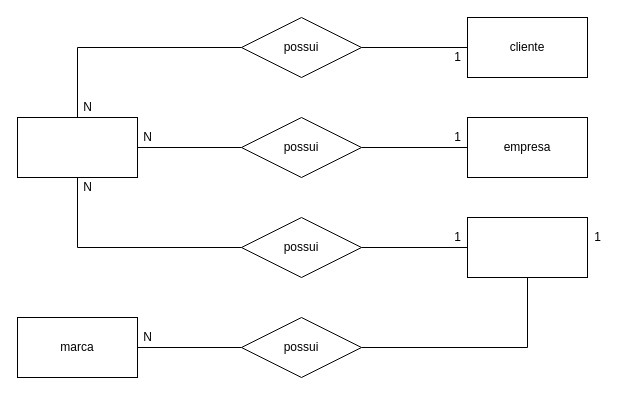
This 625x395 diagram has some shape labels left out. Each missing label, with the centre of its shape:
"modelo" goes at [527,247].
"veiculo" goes at [77,147].
